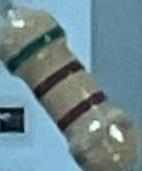Brown: (52, 87, 111, 135), (28, 56, 86, 103)
Green: (4, 22, 67, 75)
Side-Silver: (69, 112, 137, 168)
